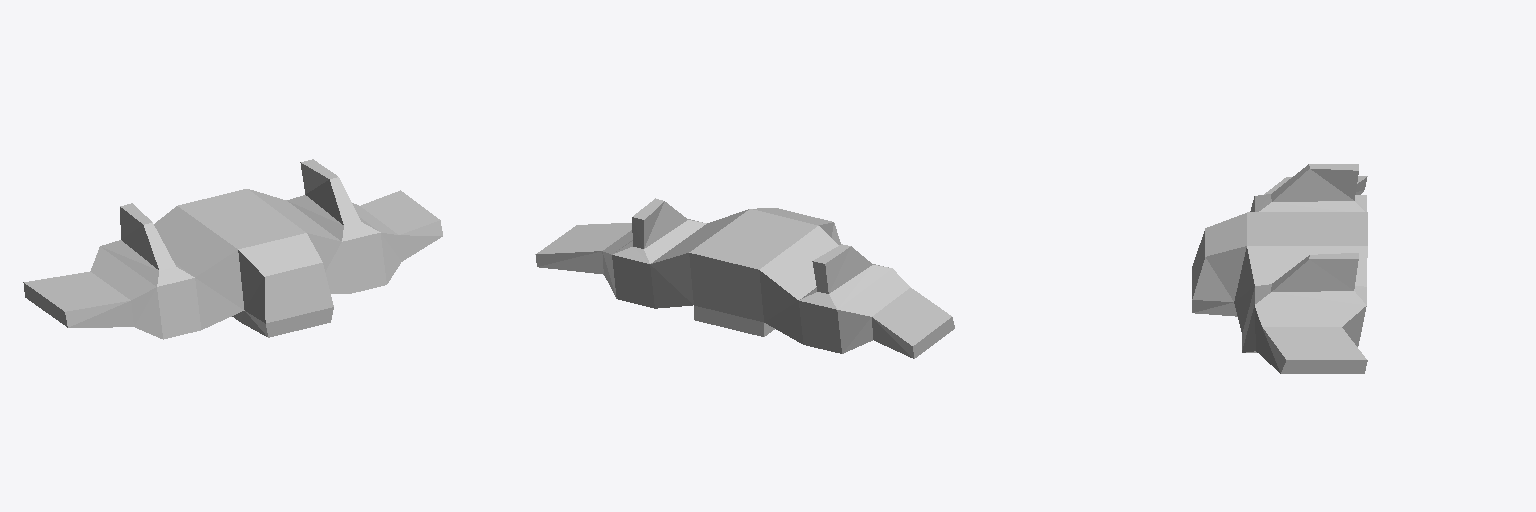
File: nave.obj
The picture shows the model from 3 angles: view 1: azimuth 30°, elevation 25°; view 2: azimuth 150°, elevation 25°; view 3: azimuth 270°, elevation 25°; orthographic projection.
Parts seen in each view (by area): view 1: Cube; view 2: Cube; view 3: Cube.
Part boxes in pixels (bbox=[...]): Cube: bbox=[23, 159, 442, 339]; Cube: bbox=[535, 198, 954, 358]; Cube: bbox=[1192, 164, 1367, 373].
Size of the model in its own units: 10.89 by 2.45 by 4.38.